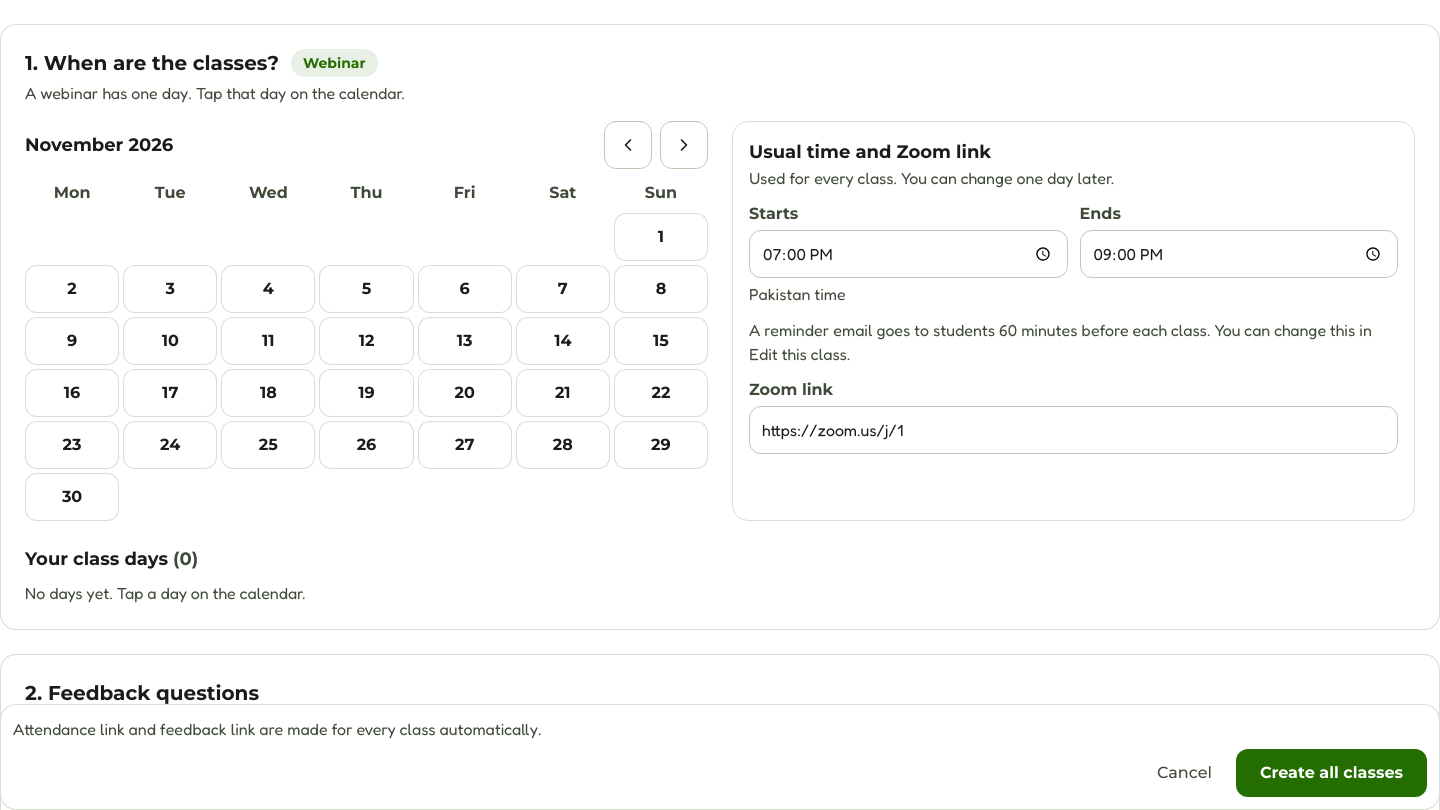
it: SetupForm › webinar batch allows only one day
This screenshot has width=1440, height=810.
Click the button "9": point(72, 341) [25,317,119,365]
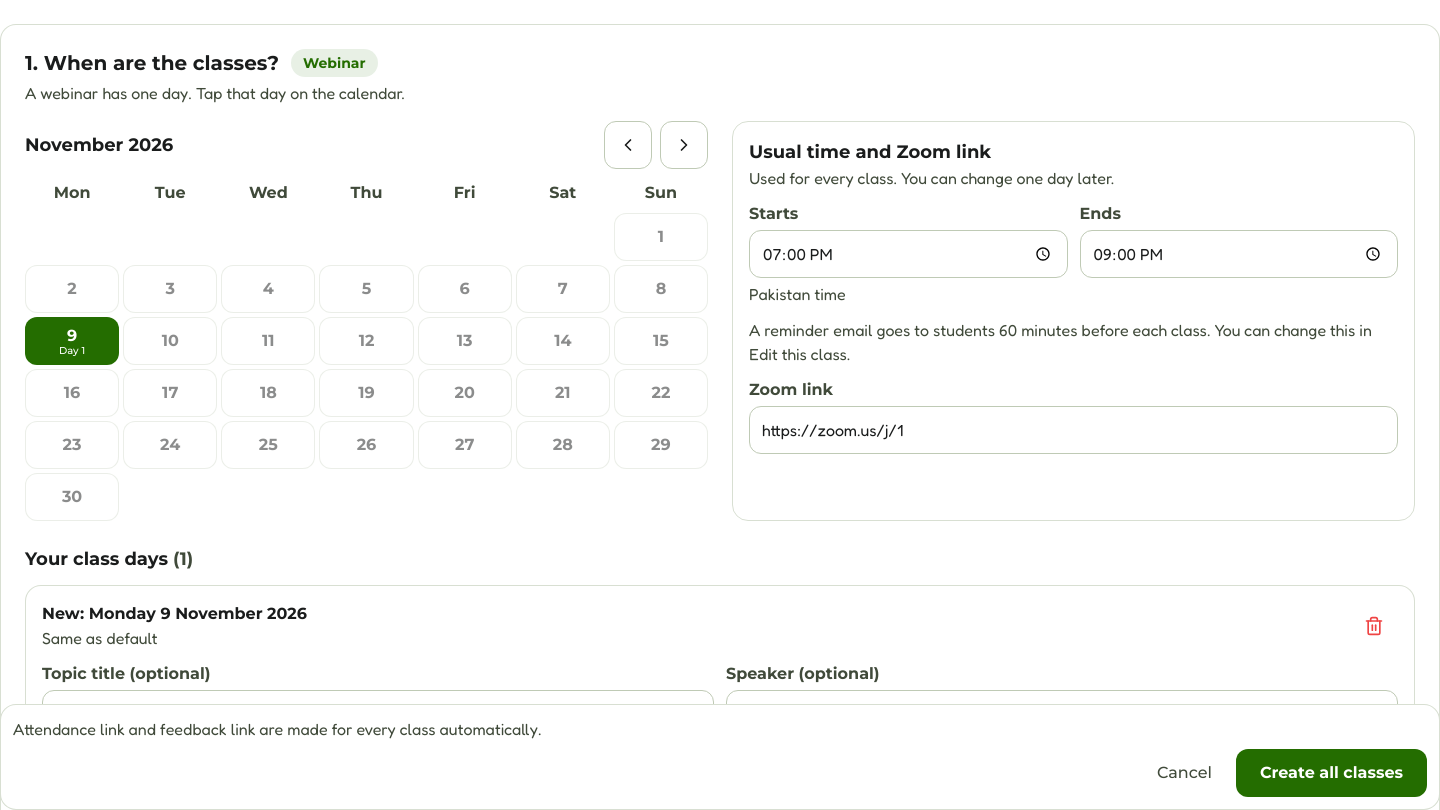
Click the button "10": point(170, 341) [123,317,217,365]
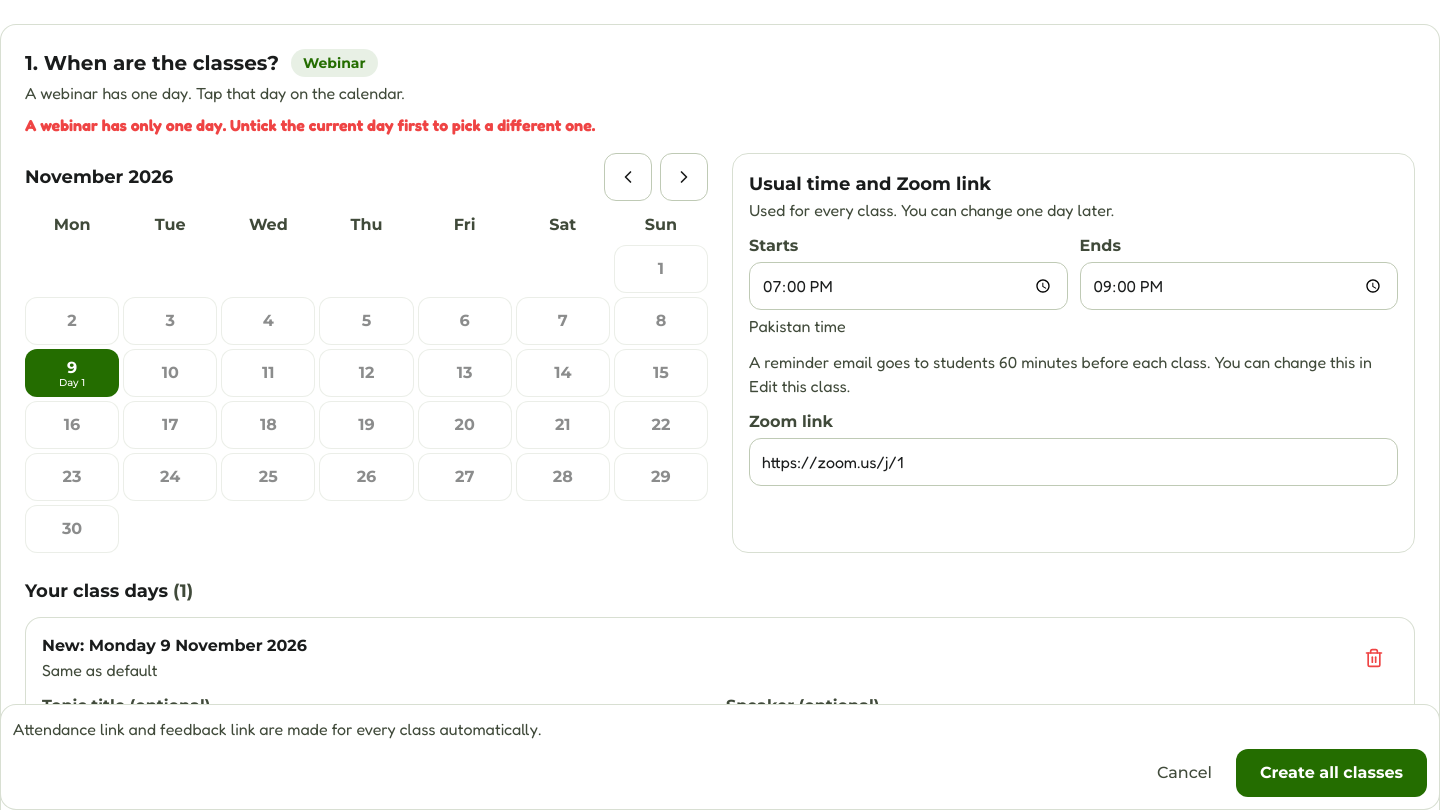
Result: the text "only one day" is shown at [25,115,595,135]
